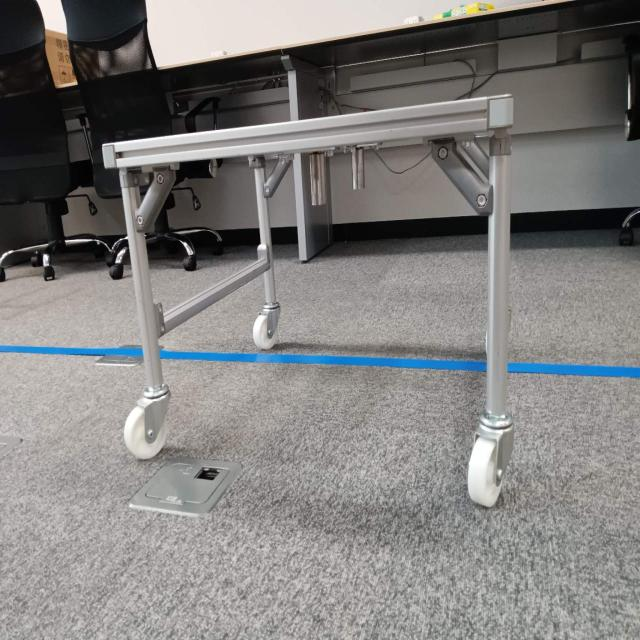door: (112, 95, 505, 231)
